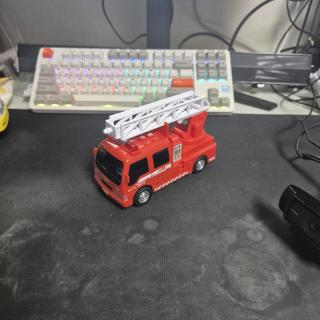Fire_truck: (94, 91, 216, 207)
